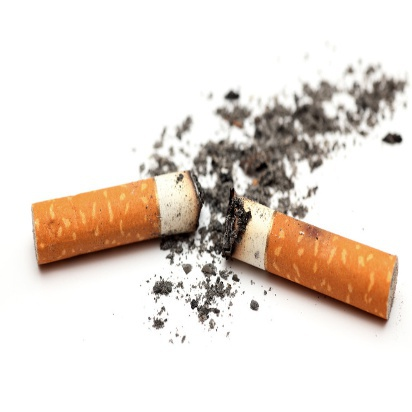cigarette: (210, 191, 404, 335), (29, 165, 208, 279)
